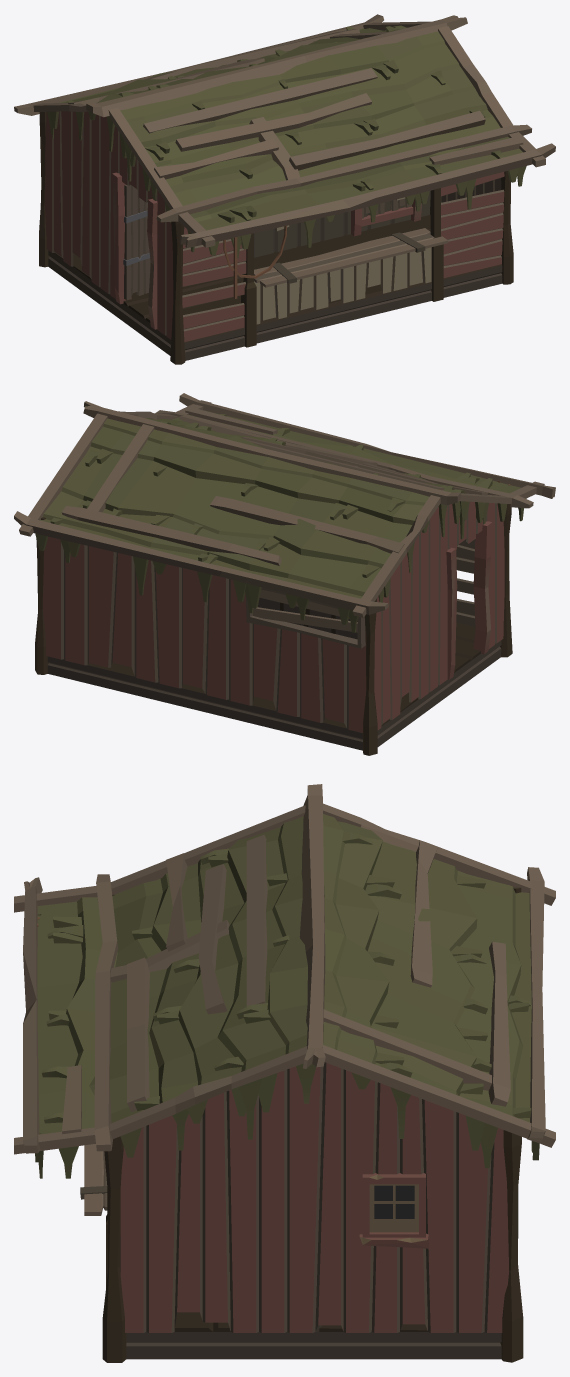
File: SM_Bld_Shanty_Preset_Bar_01.glb
3 views of the same model, one above another, from view 1: azimuth 30°, elevation 25°; view 2: azimuth 150°, elevation 25°; view 3: azimuth 270°, elevation 25° (orthographic). The views are drawn at different scales.
Parts seen in each view (by area): view 1: SM_Bld_Shanty_Preset_Bar_01; view 2: SM_Bld_Shanty_Preset_Bar_01; view 3: SM_Bld_Shanty_Preset_Bar_01.
Boxes of the visible parts, x1,y1,x2,y2 form: SM_Bld_Shanty_Preset_Bar_01: (14,14,555,364); SM_Bld_Shanty_Preset_Bar_01: (14,393,555,755); SM_Bld_Shanty_Preset_Bar_01: (14,784,555,1362).
Bounding box in the file's own units: 0.077 × 0.0416 × 0.0642.
